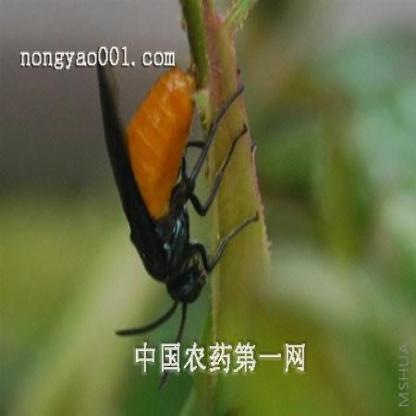sawfly: (90, 39, 266, 388)
